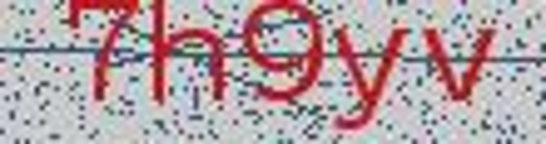7: (54, 1, 142, 113)
9: (234, 2, 327, 118)
h: (144, 1, 230, 120)
v: (418, 14, 506, 114)
y: (330, 12, 416, 144)
